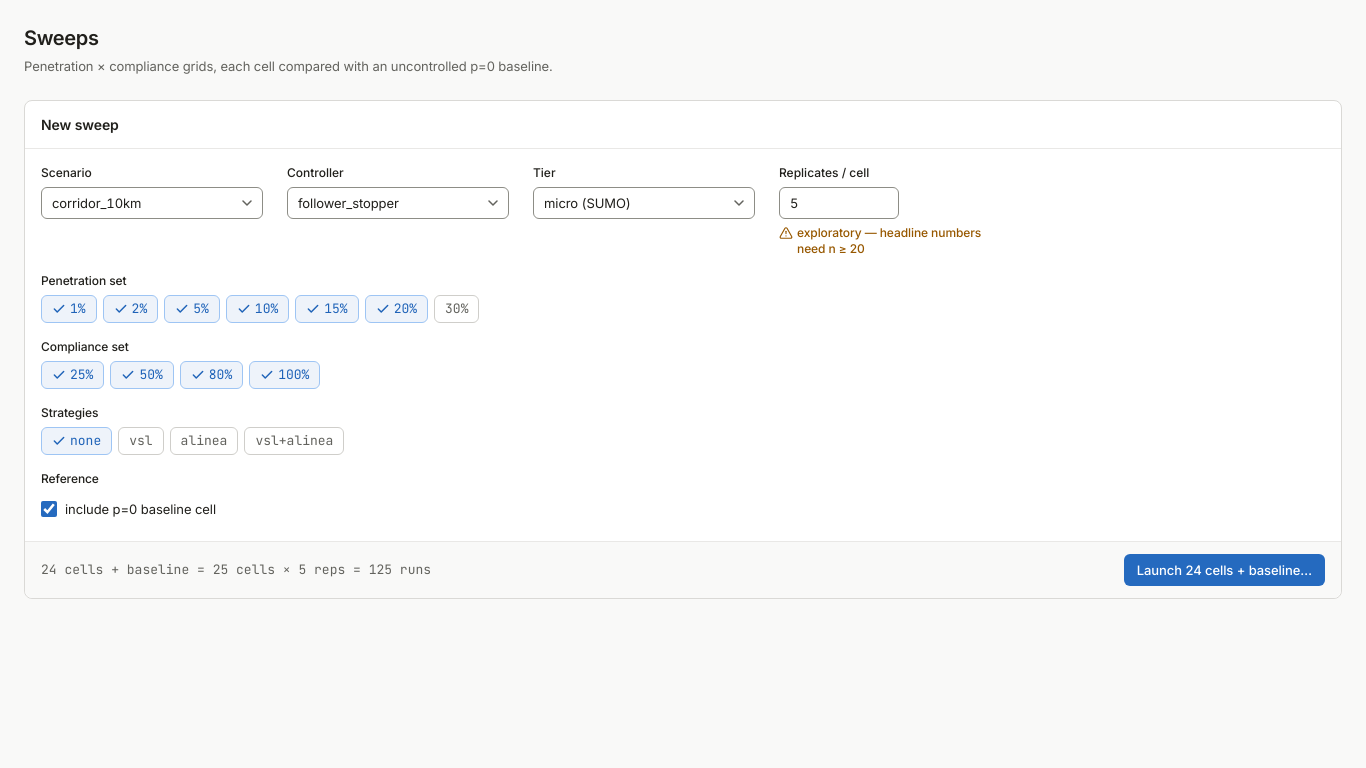
Test: SweepsView (real API shapes) › cancelling the confirmation enqueues nothing
The width and height of the screenshot is (1366, 768).
Click the button "Launch 24 cells + baseline…": (1224, 570) [1124, 554, 1325, 586]
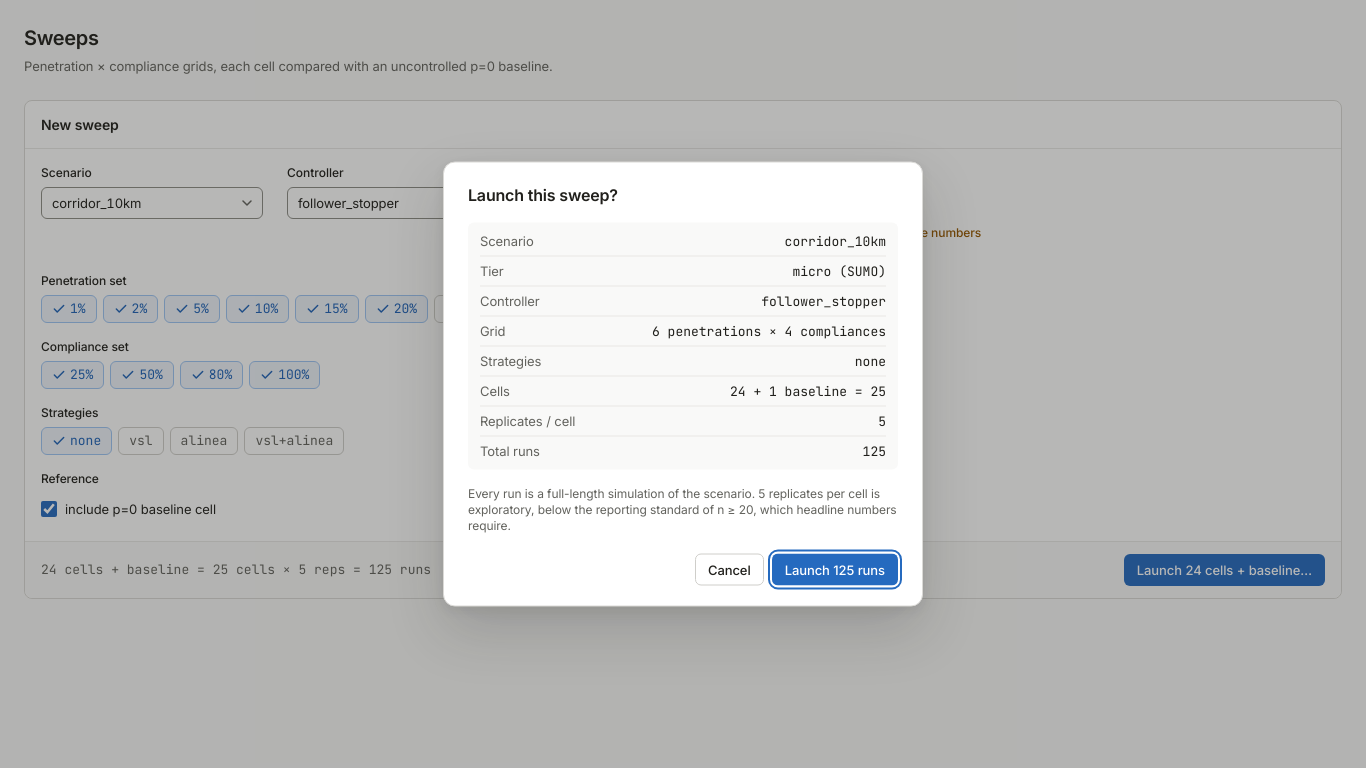
Click the button "Cancel": (729, 570) [695, 554, 764, 586]
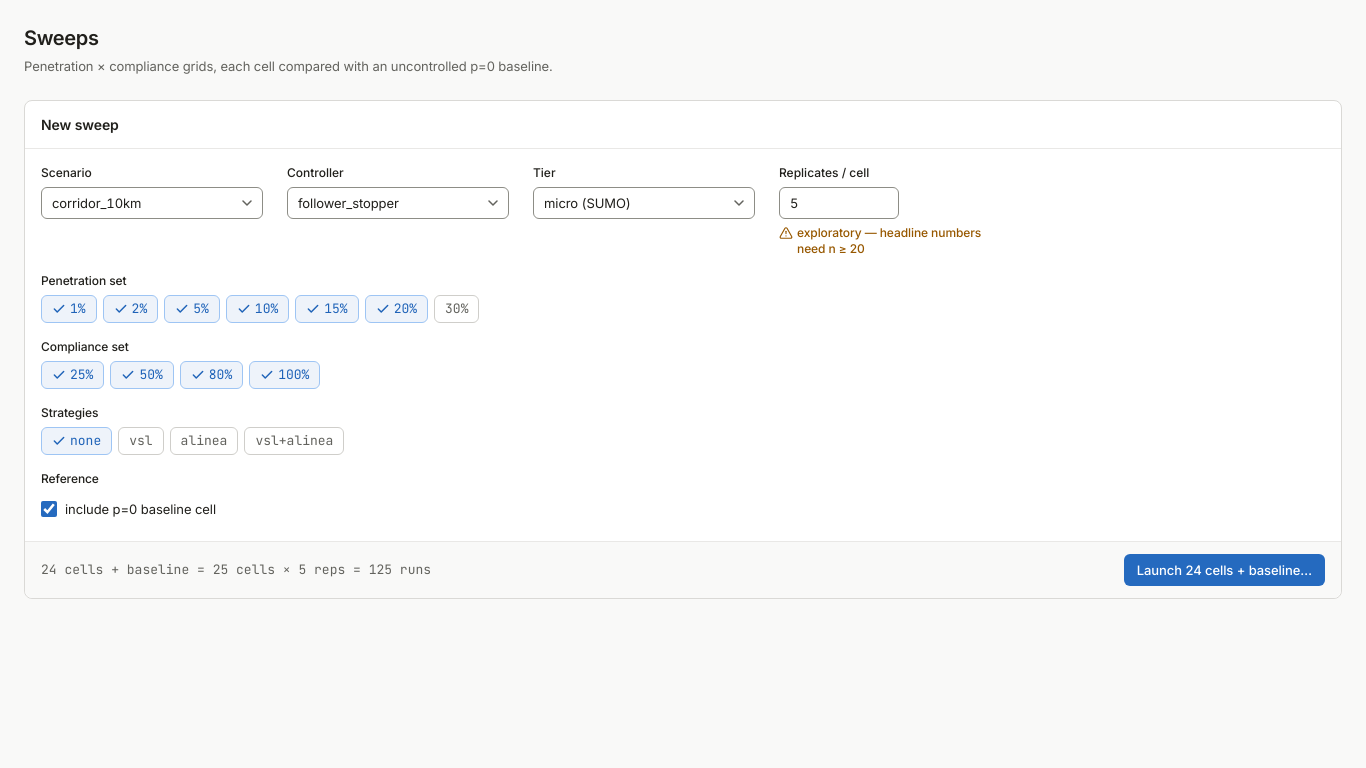
Expected: the dialog is gone
